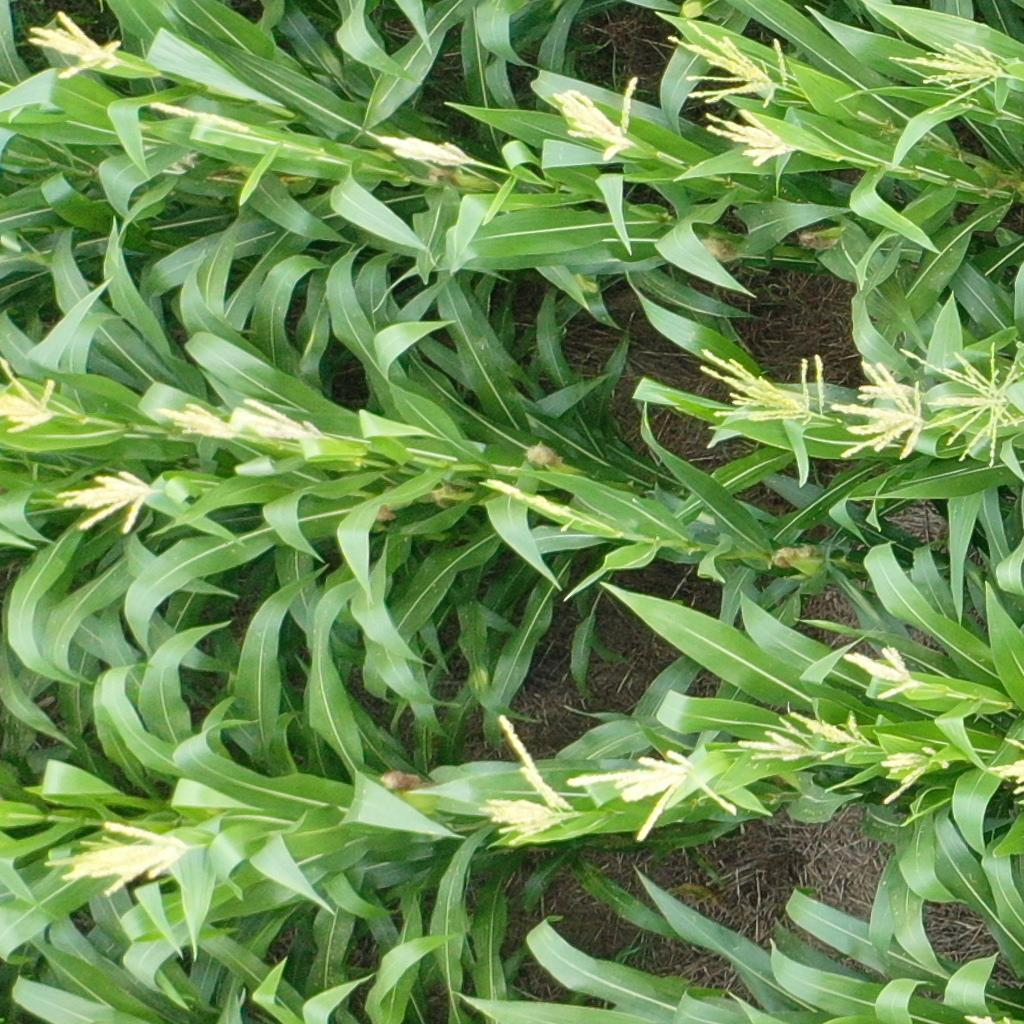Tassel: (565, 747, 742, 850), (897, 335, 1024, 469), (482, 714, 578, 850), (666, 14, 796, 111), (42, 820, 193, 902), (695, 345, 832, 429), (829, 359, 928, 466), (883, 35, 1021, 111), (546, 74, 650, 168), (52, 466, 166, 538), (22, 11, 129, 81), (480, 476, 576, 534), (784, 705, 873, 767), (706, 111, 800, 167), (840, 643, 923, 706), (1, 359, 66, 438), (875, 738, 950, 803), (236, 393, 325, 446), (144, 97, 253, 137), (155, 397, 242, 445), (737, 717, 815, 767), (374, 129, 469, 169), (988, 736, 1024, 804), (964, 1009, 1012, 1024)
